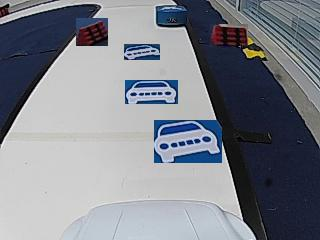prop: (156, 5, 187, 27)
